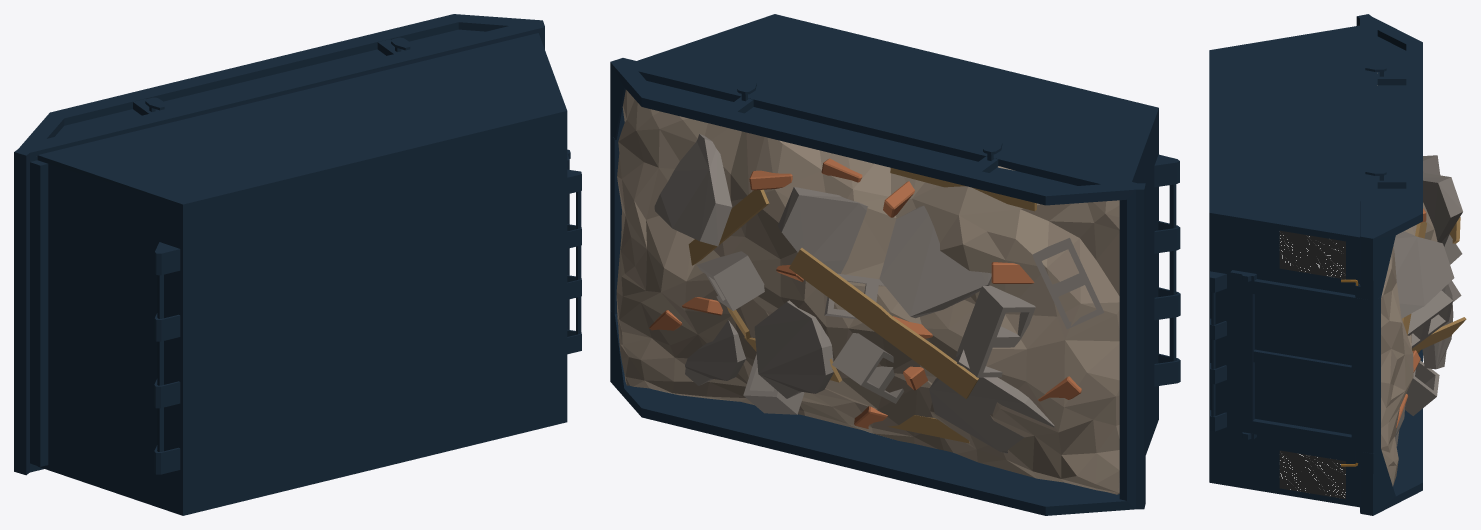
File: Dumpster.fbx
3 views of the same model, side by side, from view 1: azimuth 30°, elevation 25°; view 2: azimuth 150°, elevation 25°; view 3: azimuth 270°, elevation 25° (orthographic). The views are drawn at different scales.
Visible parts, largest first — view 1: Dumpster; view 2: Dumpster; view 3: Dumpster.
Boxes of the visible parts, bbox=[...] form: Dumpster: bbox=[14, 14, 581, 515]; Dumpster: bbox=[610, 14, 1180, 515]; Dumpster: bbox=[1209, 14, 1466, 515].
Size of the model in its own units: 2.98 by 1.82 by 1.44.
